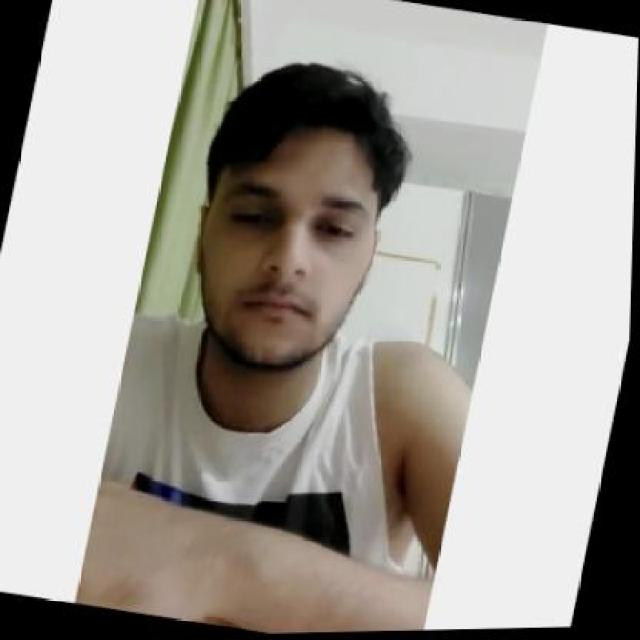inattentif: (164, 46, 418, 394)
